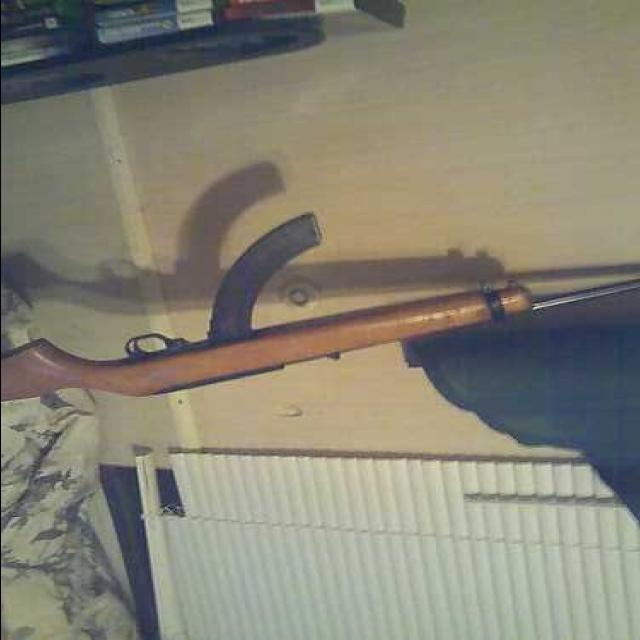heavyweapon: (2, 204, 638, 447)
